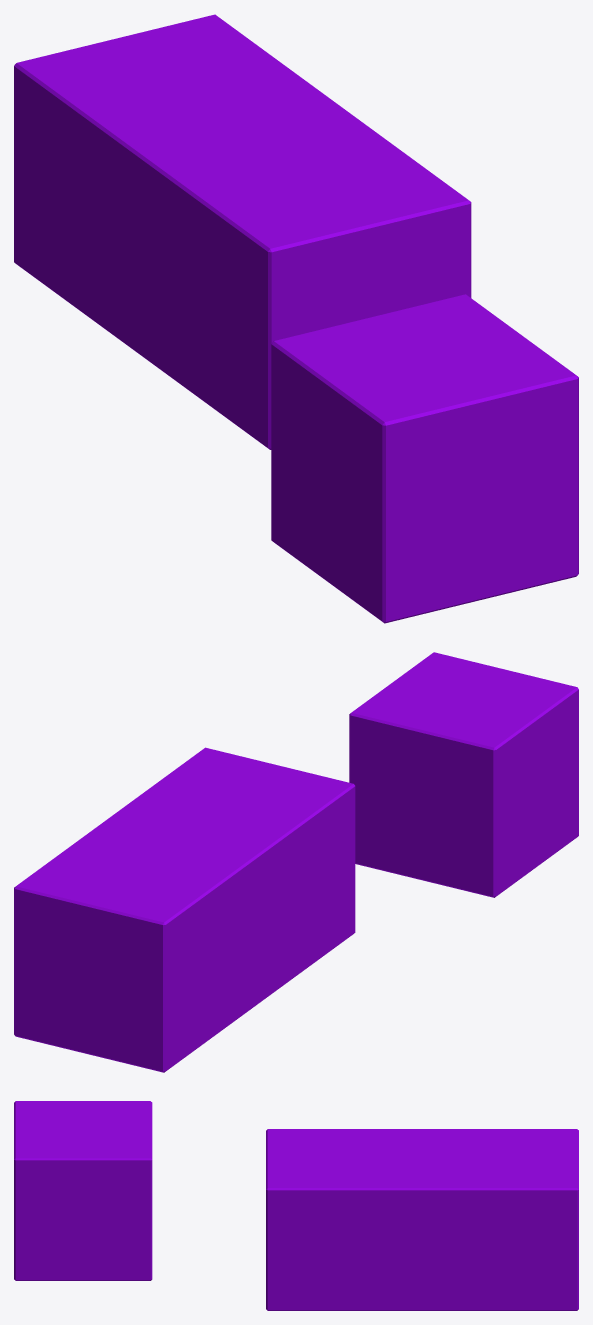
Rendered from TempA_DisplayStands_01_Low.fbx.
3 renders of one model, top to bottom at view 1: azimuth 30°, elevation 25°; view 2: azimuth 150°, elevation 25°; view 3: azimuth 270°, elevation 25°, orthographic. The views are drawn at different scales.
Parts seen in each view (by area): view 1: TempA_LargeDisplayStand_01_Low, TempA_SmallDisplayStand_01_Low; view 2: TempA_LargeDisplayStand_01_Low, TempA_SmallDisplayStand_01_Low; view 3: TempA_LargeDisplayStand_01_Low, TempA_SmallDisplayStand_01_Low.
Boxes of the visible parts, x1,y1,x2,y2 form: TempA_LargeDisplayStand_01_Low: [14, 14, 471, 449]; TempA_SmallDisplayStand_01_Low: [271, 294, 578, 623]; TempA_LargeDisplayStand_01_Low: [14, 747, 355, 1072]; TempA_SmallDisplayStand_01_Low: [349, 652, 578, 897]; TempA_LargeDisplayStand_01_Low: [266, 1129, 578, 1310]; TempA_SmallDisplayStand_01_Low: [14, 1101, 152, 1280].
Size of the model in its own units: 1.54 by 1.01 by 4.18.
